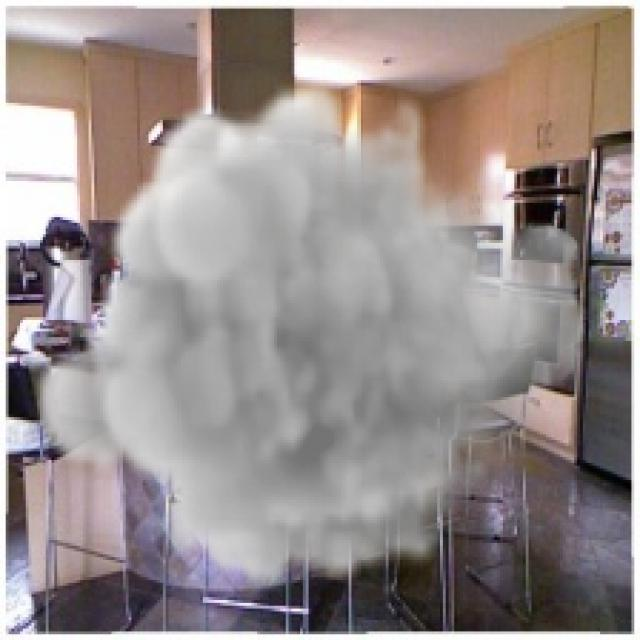Smoke: (29, 77, 588, 592)
